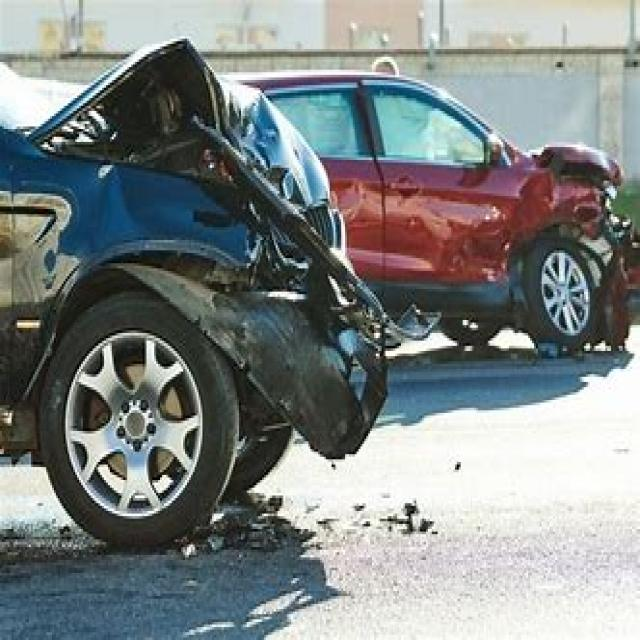Accident: (36, 23, 640, 471)
